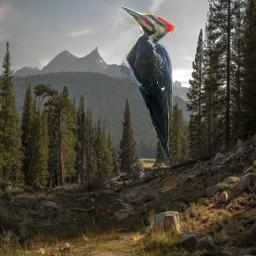Woodpecker: (118, 5, 177, 159)
